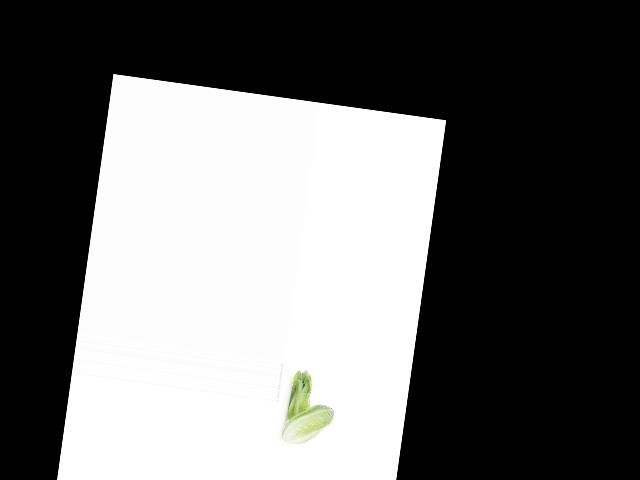lettuce: (279, 368, 319, 423)
